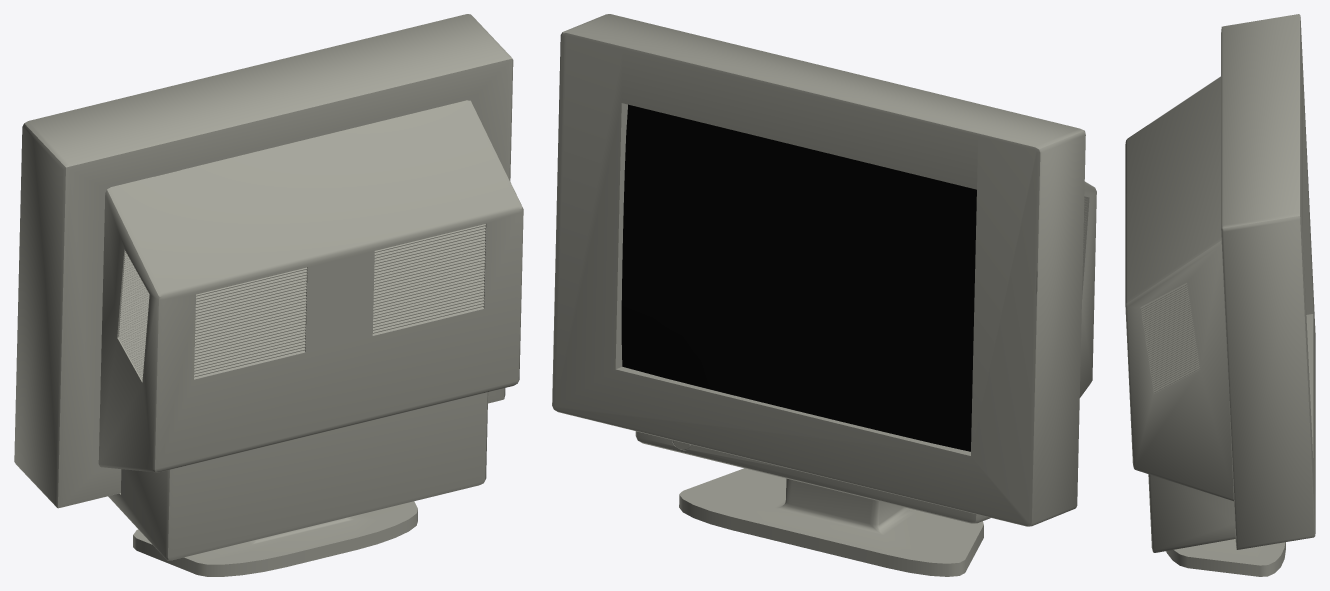
File: monitorCrt.glb
The picture shows the model from 3 angles, left to right: view 1: azimuth 30°, elevation 25°; view 2: azimuth 150°, elevation 25°; view 3: azimuth 270°, elevation 25°; orthographic projection. The views are drawn at different scales.
Parts seen in each view (by area): view 1: Cubo; view 2: Cubo; view 3: Cubo.
Boxes of the visible parts, x1=… form: Cubo: x1=14, y1=14, x2=523, y2=576; Cubo: x1=552, y1=14, x2=1096, y2=576; Cubo: x1=1125, y1=14, x2=1315, y2=576.
Size of the model in its own units: 0.4507 by 0.418 by 0.178.
Materials: 1 (1 with a texture image).
